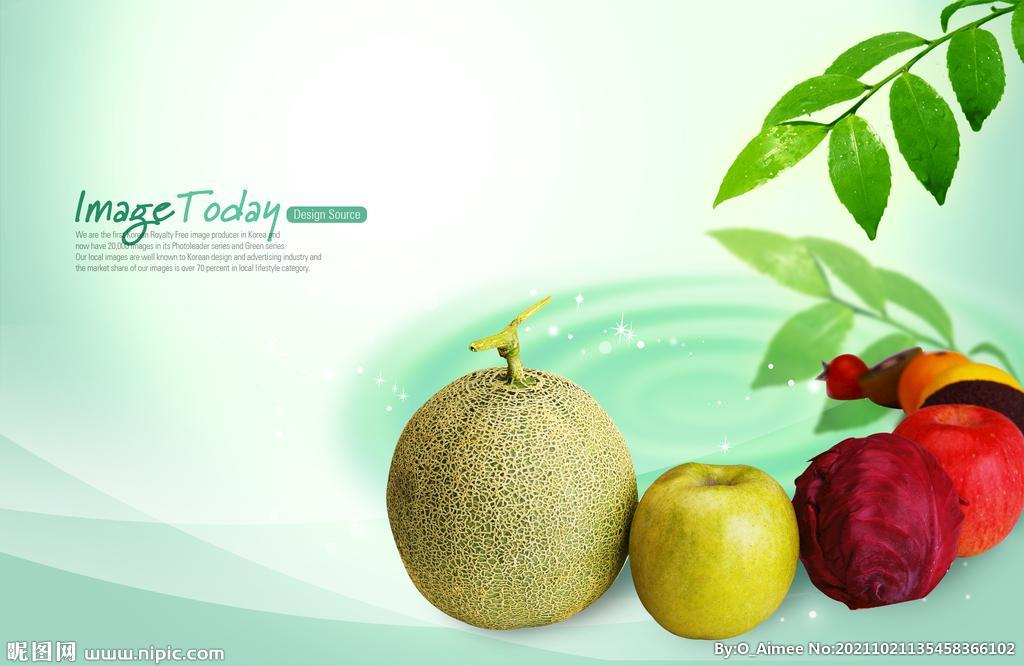apple: (629, 460, 804, 641)
